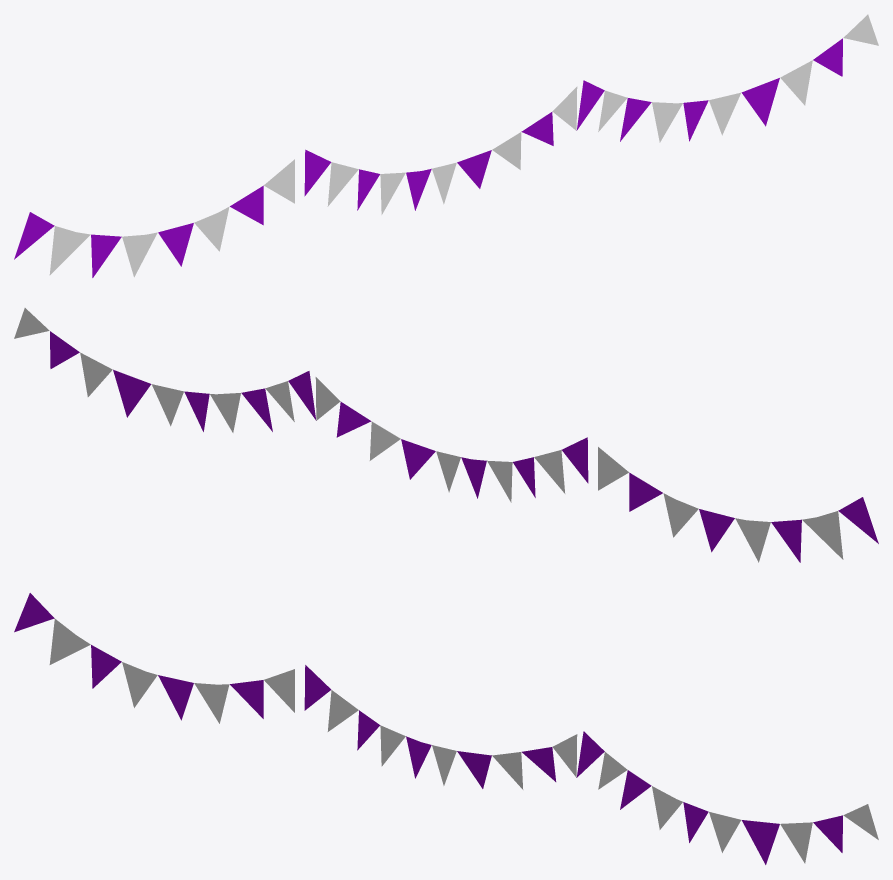
The model's file is party_streamers.glb.
The picture shows the model from 3 angles, top to bottom: view 1: azimuth 30°, elevation 25°; view 2: azimuth 150°, elevation 25°; view 3: azimuth 330°, elevation 25°; orthographic projection.
Visible parts, largest first — view 1: Mesh1_Color_M00_0, Mesh1_Color_J06_0; view 2: Mesh1_Color_M00_0, Mesh1_Color_J06_0; view 3: Mesh1_Color_M00_0, Mesh1_Color_J06_0.
Part boxes in pixels (bbox=[...]): Mesh1_Color_M00_0: bbox=[49, 14, 878, 277]; Mesh1_Color_J06_0: bbox=[14, 38, 842, 277]; Mesh1_Color_M00_0: bbox=[14, 308, 843, 562]; Mesh1_Color_J06_0: bbox=[50, 331, 878, 562]; Mesh1_Color_M00_0: bbox=[49, 618, 878, 863]; Mesh1_Color_J06_0: bbox=[14, 593, 842, 864].
Size of the model in its own units: 124 by 13.43 by 1.11.
